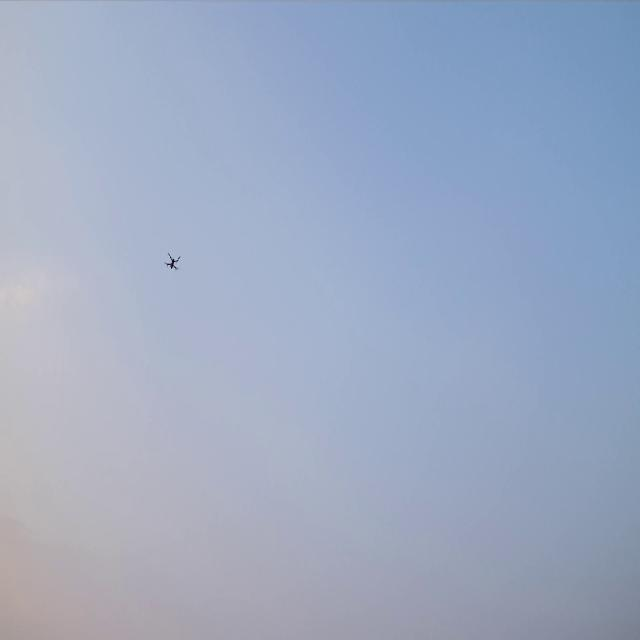UAV: (164, 250, 180, 273)
